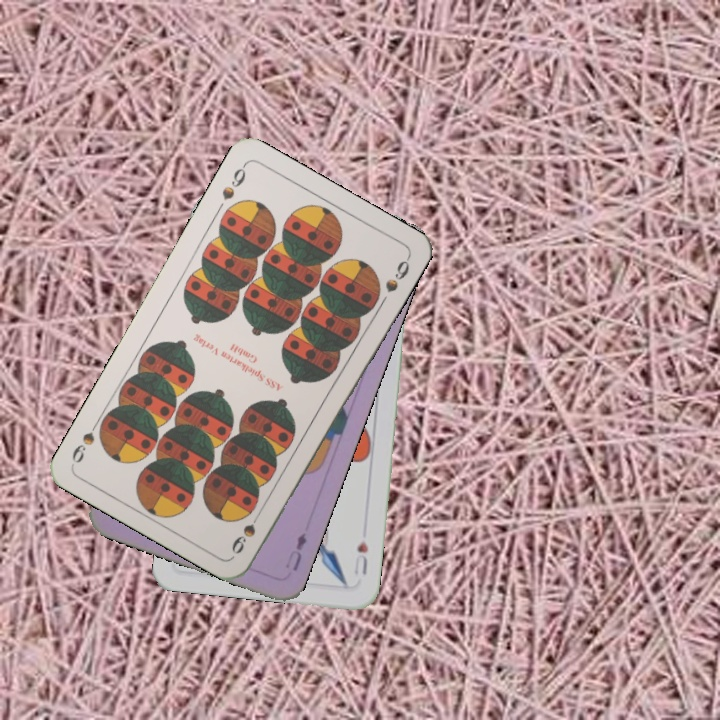EU: (281, 528, 309, 574)
HU: (350, 537, 371, 578)
S9: (227, 504, 266, 557), (218, 160, 249, 202)
